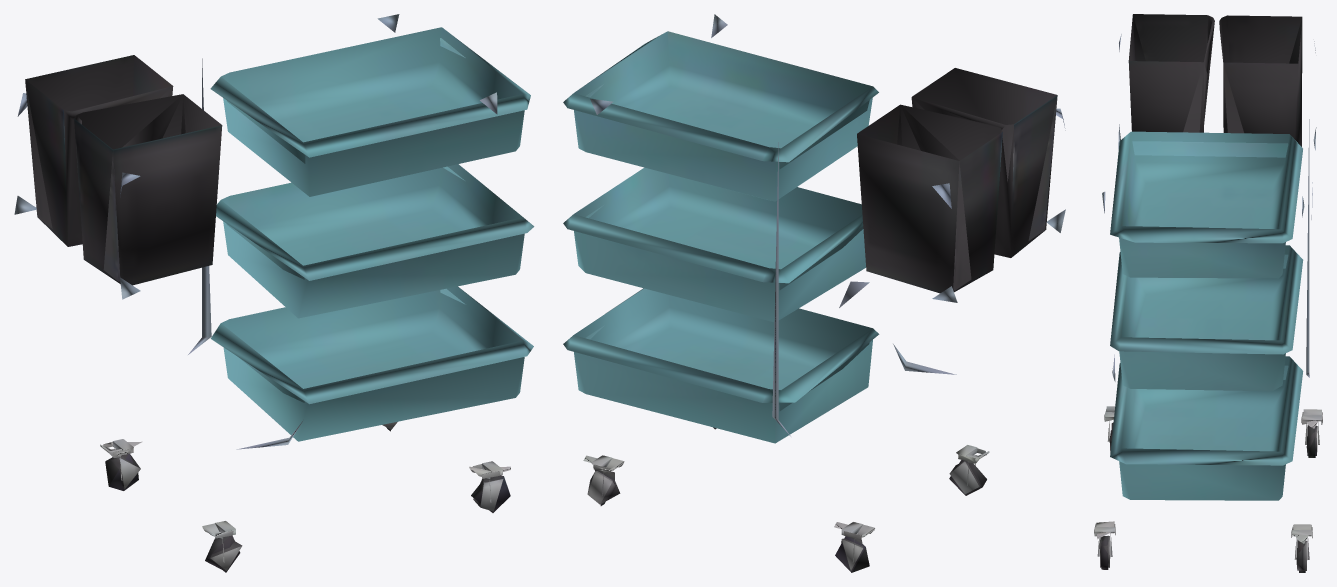
The model's file is med-cart.lod1.glb.
3 renders of one model, left to right at view 1: azimuth 30°, elevation 25°; view 2: azimuth 150°, elevation 25°; view 3: azimuth 270°, elevation 25°, orthographic. The views are drawn at different scales.
Visible parts, largest first — view 1: Armature_low_lambert1_0; view 2: Armature_low_lambert1_0; view 3: Armature_low_lambert1_0.
Boxes of the visible parts, x1,y1,x2,y2 form: Armature_low_lambert1_0: (14, 14, 534, 572); Armature_low_lambert1_0: (563, 14, 1065, 572); Armature_low_lambert1_0: (1094, 14, 1322, 572).
Bounding box in the file's own units: 0.9522 × 0.9489 × 0.4966.
1 material, 1 textured.
